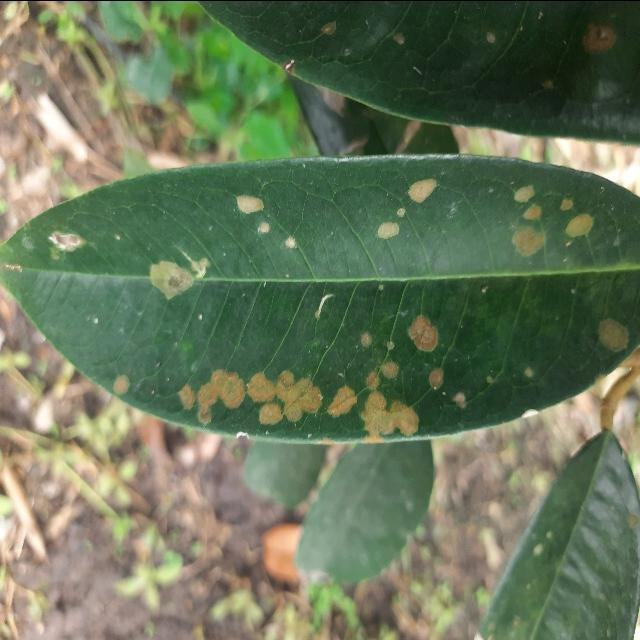Algal Leaf Spot: (0, 142, 640, 457)
